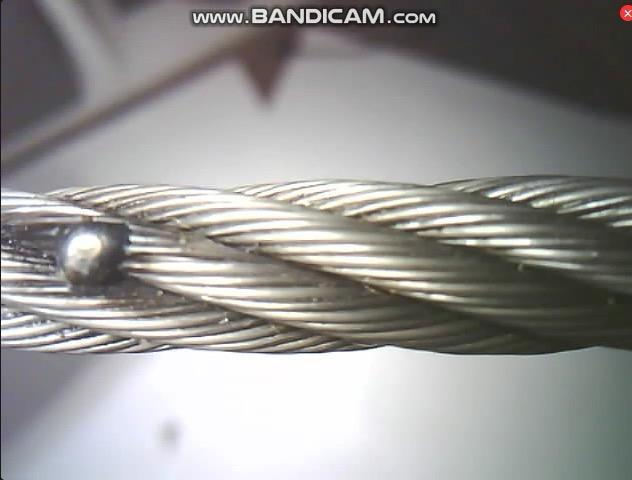thunderbolt: (40, 213, 148, 299)
